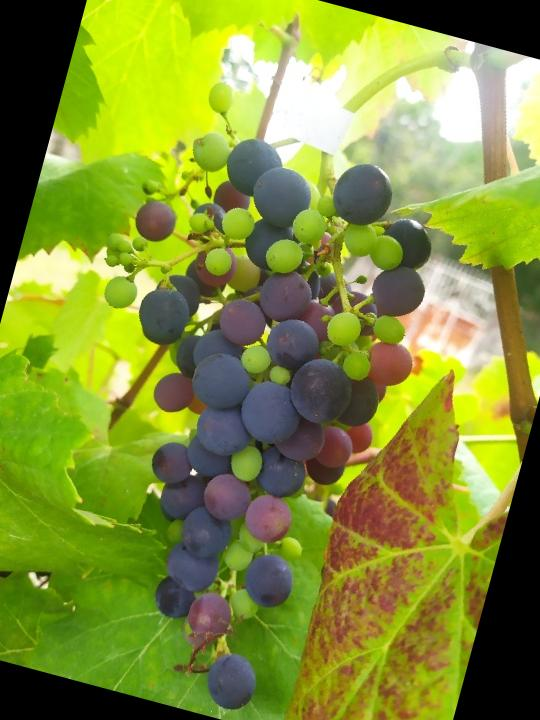grape: (0, 59, 477, 720)
